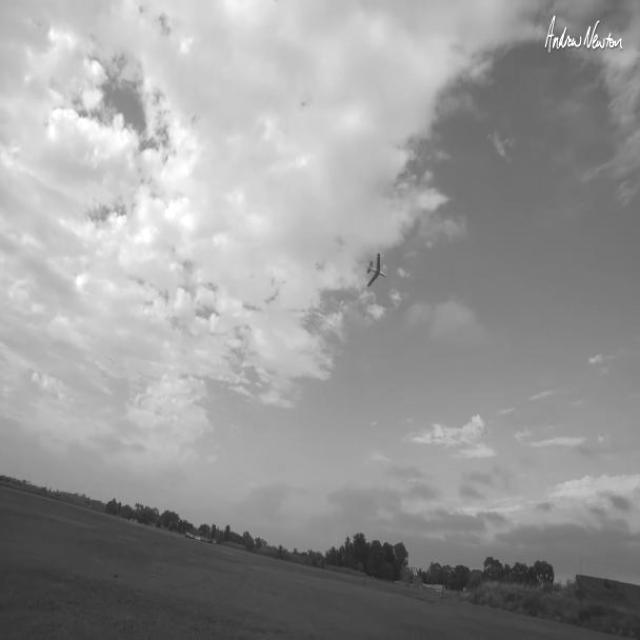iha: (361, 250, 390, 290)
